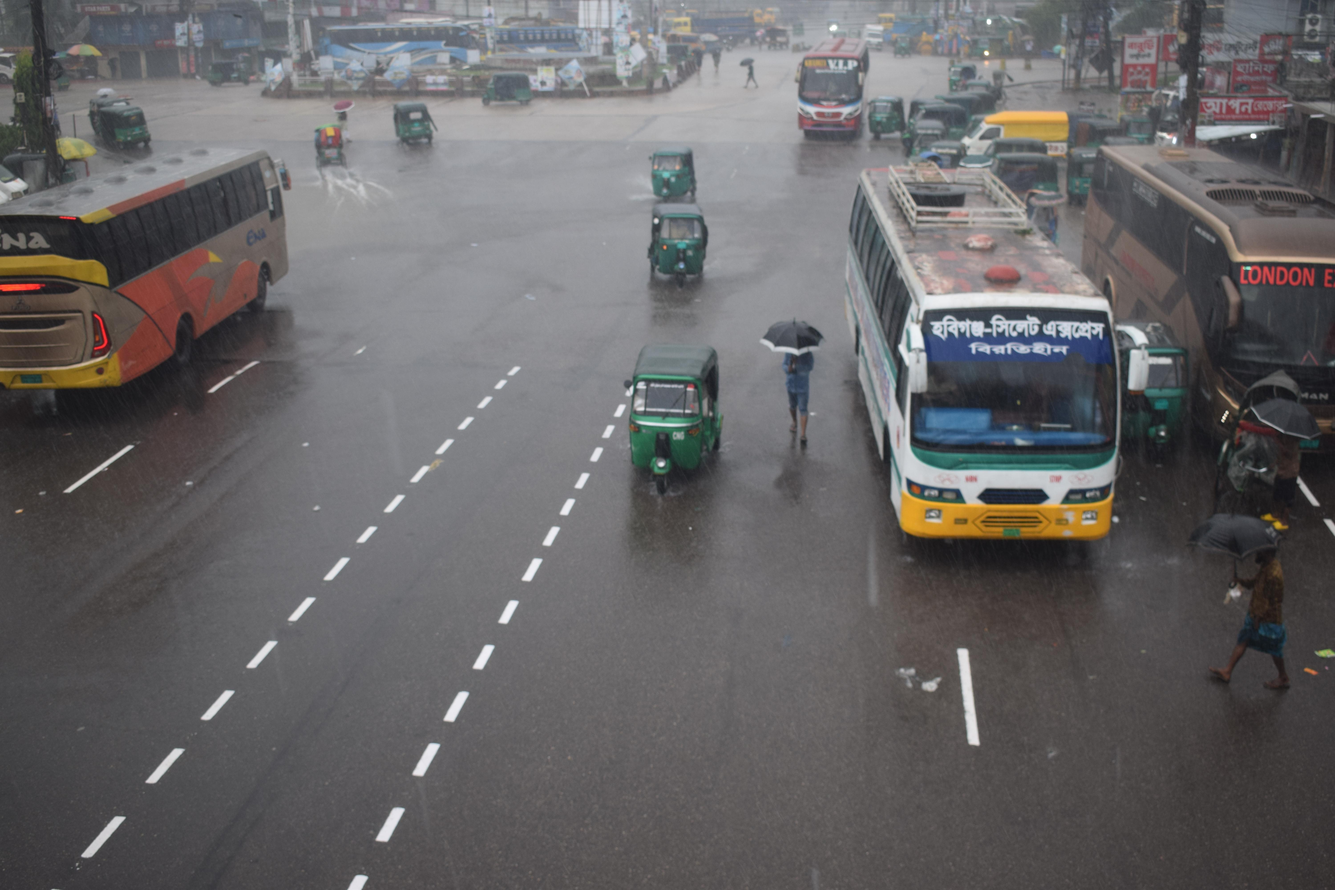Bus: (829, 134, 1132, 584), (0, 125, 316, 430), (1075, 101, 1335, 467), (266, 1, 520, 110), (775, 22, 891, 158), (473, 21, 644, 101)
Car: (961, 90, 1094, 161)
